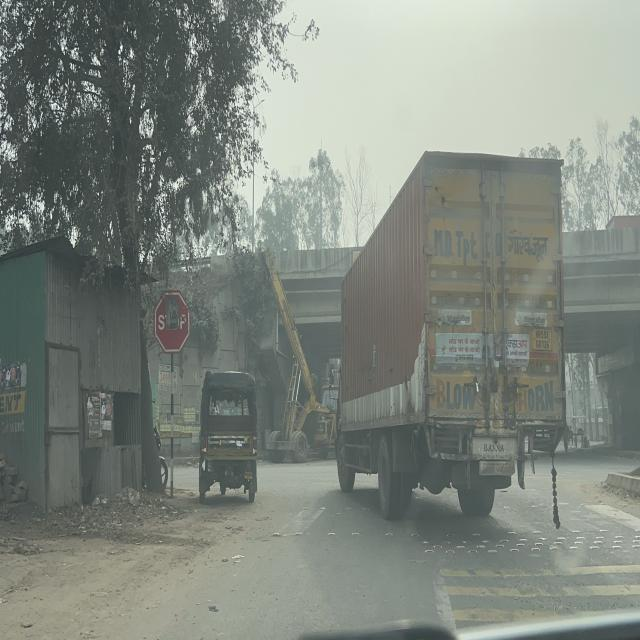STOP: (154, 289, 191, 353)
